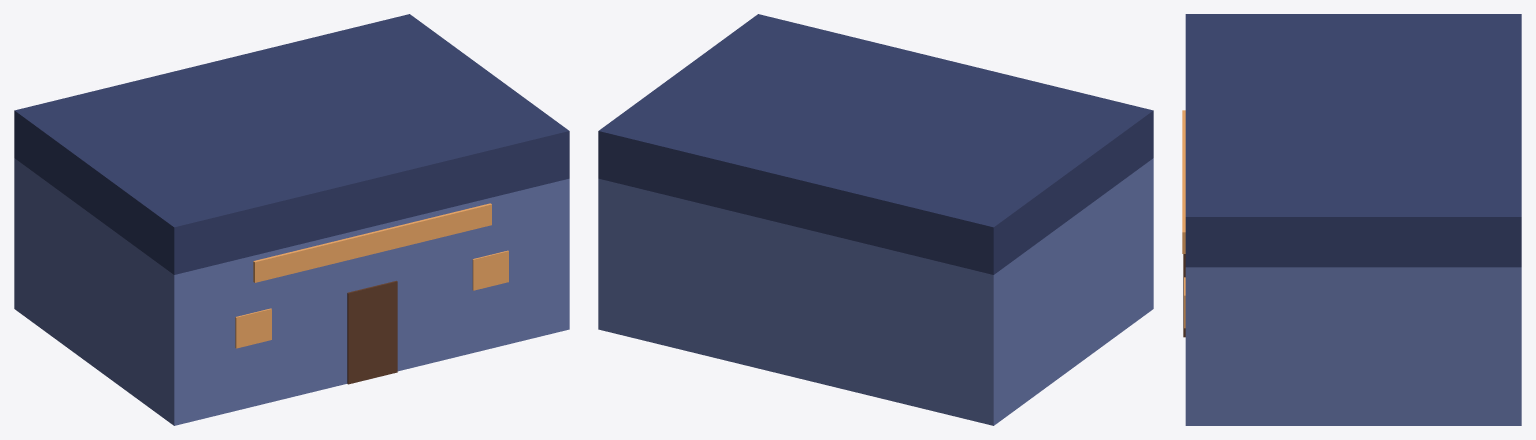
The model's file is gedung_warnet.fbx.
3 views of the same model, side by side, from view 1: azimuth 30°, elevation 25°; view 2: azimuth 150°, elevation 25°; view 3: azimuth 270°, elevation 25° (orthographic). The views are drawn at different scales.
Parts seen in each view (by area): view 1: gedung_warnet; view 2: gedung_warnet; view 3: gedung_warnet.
Boxes of the visible parts, <box> form: gedung_warnet: <box>14,14,569,425</box>; gedung_warnet: <box>598,14,1153,425</box>; gedung_warnet: <box>1182,14,1521,425</box>.
Bounding box in the file's own units: 1000 × 480 × 707.
1 material, 1 textured.
